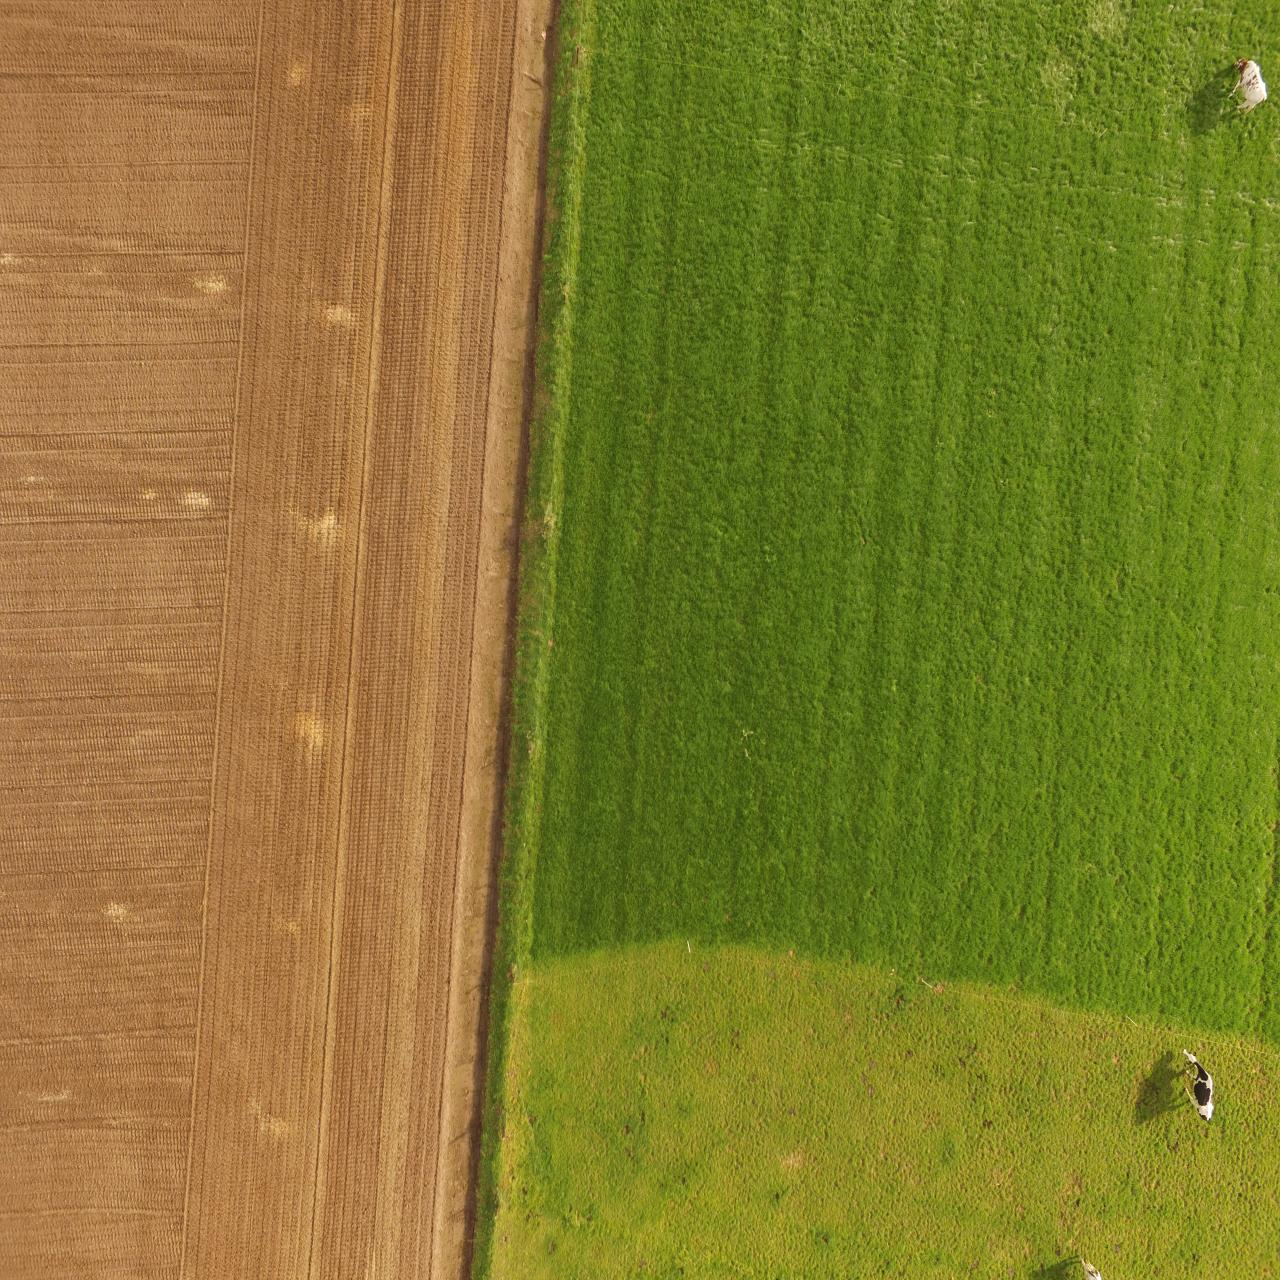cow: (1178, 1043, 1217, 1125), (1225, 52, 1269, 117)
